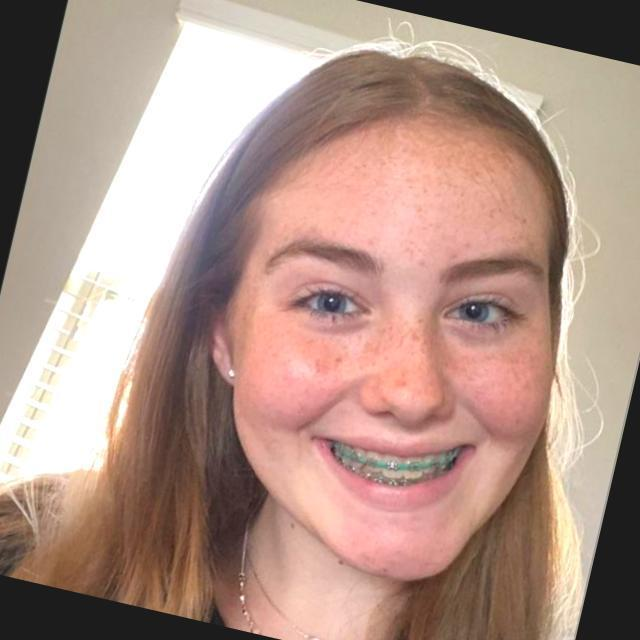freckle: (252, 286, 563, 453), (307, 105, 551, 276)
